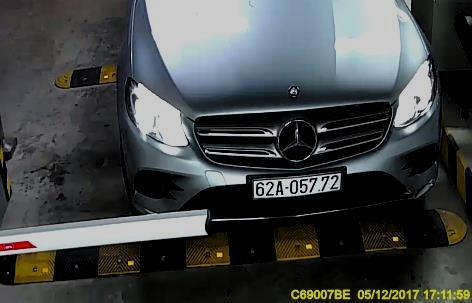plate: (249, 170, 346, 199)
